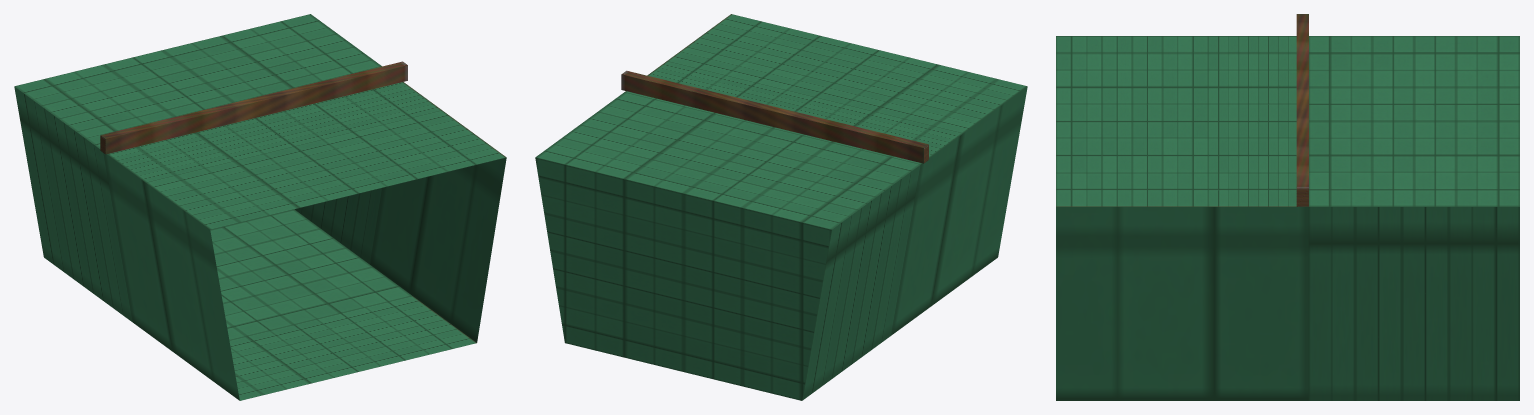
File: balcony.obj
3 views of the same model, side by side, from view 1: azimuth 30°, elevation 25°; view 2: azimuth 150°, elevation 25°; view 3: azimuth 270°, elevation 25° (orthographic). The views are drawn at different scales.
Size of the model in its own units: 2.04 by 1.26 by 2.29.
